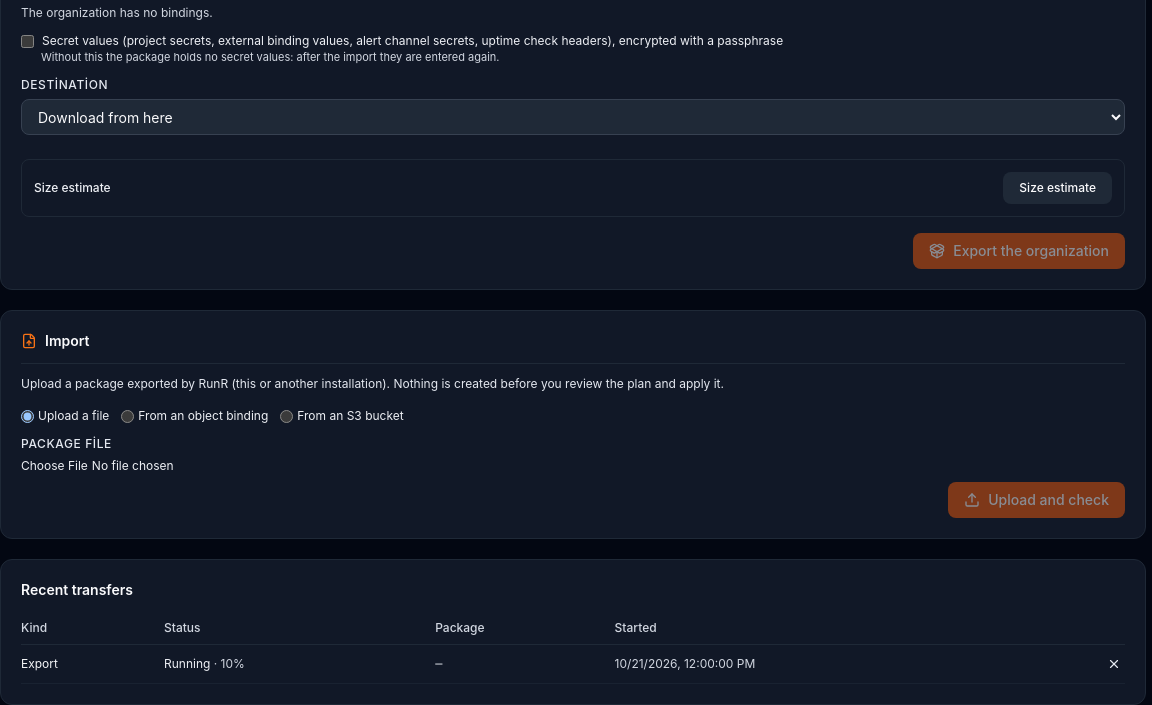
Test: OrgTransferManager › cancels a running transfer after confirming
(page scrolled)
Click the button with test id "transfer-cancel".
click(1114, 664)  # box [1103,653,1125,675]
(page scrolled)
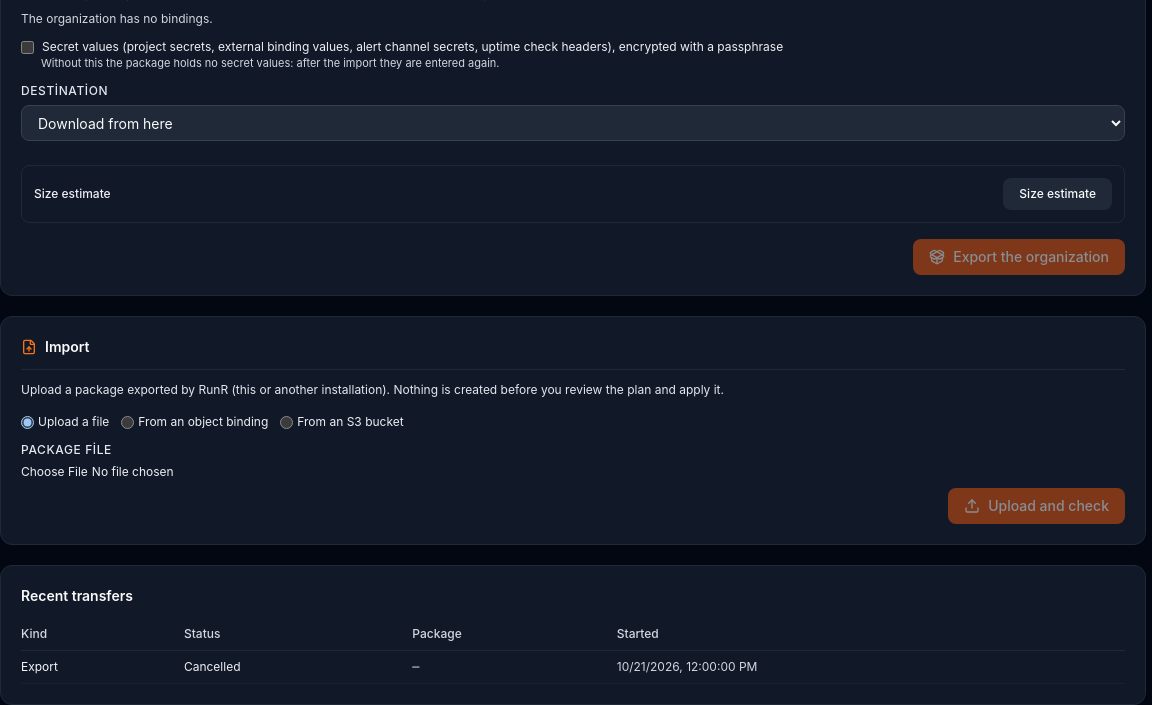
Check: the cell with test id "transfer-status" reads "Cancelled", box [184,659,240,674]
